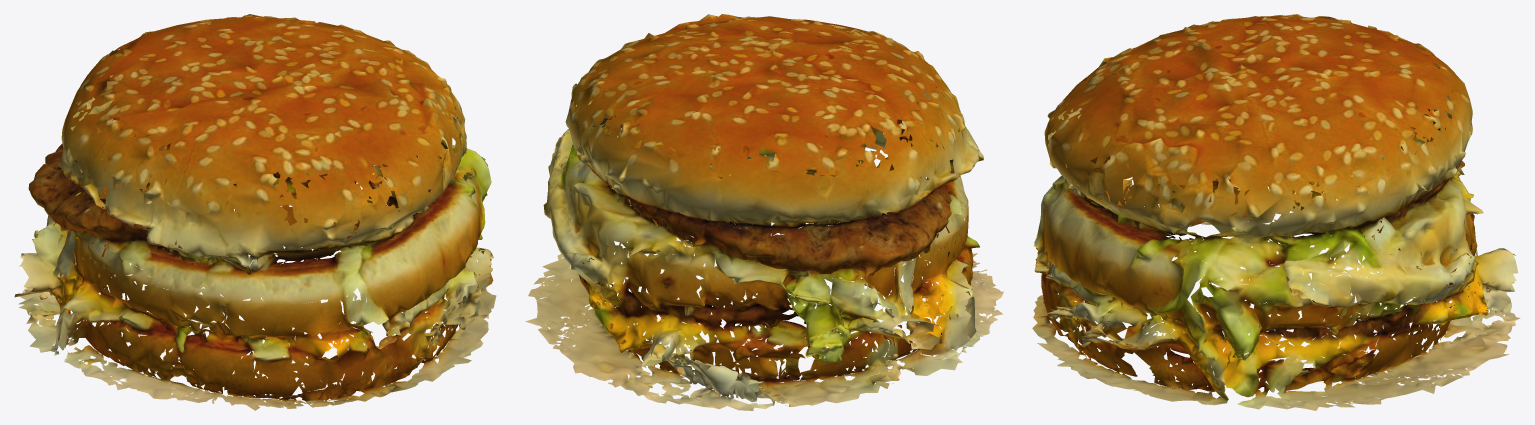
Rendered from burger-classic.glb.
3 views of the same model, side by side, from view 1: azimuth 30°, elevation 25°; view 2: azimuth 150°, elevation 25°; view 3: azimuth 270°, elevation 25° (orthographic). The views are drawn at different scales.
Parts seen in each view (by area): view 1: dish; view 2: dish; view 3: dish.
Part boxes in pixels (x1=…): dish: x1=14, y1=14, x2=496, y2=410; dish: x1=525, y1=14, x2=1003, y2=410; dish: x1=1032, y1=14, x2=1520, y2=410.
Bounding box in the file's own units: 0.13 × 0.0764 × 0.1288.
Materials: 1 (1 with a texture image).
